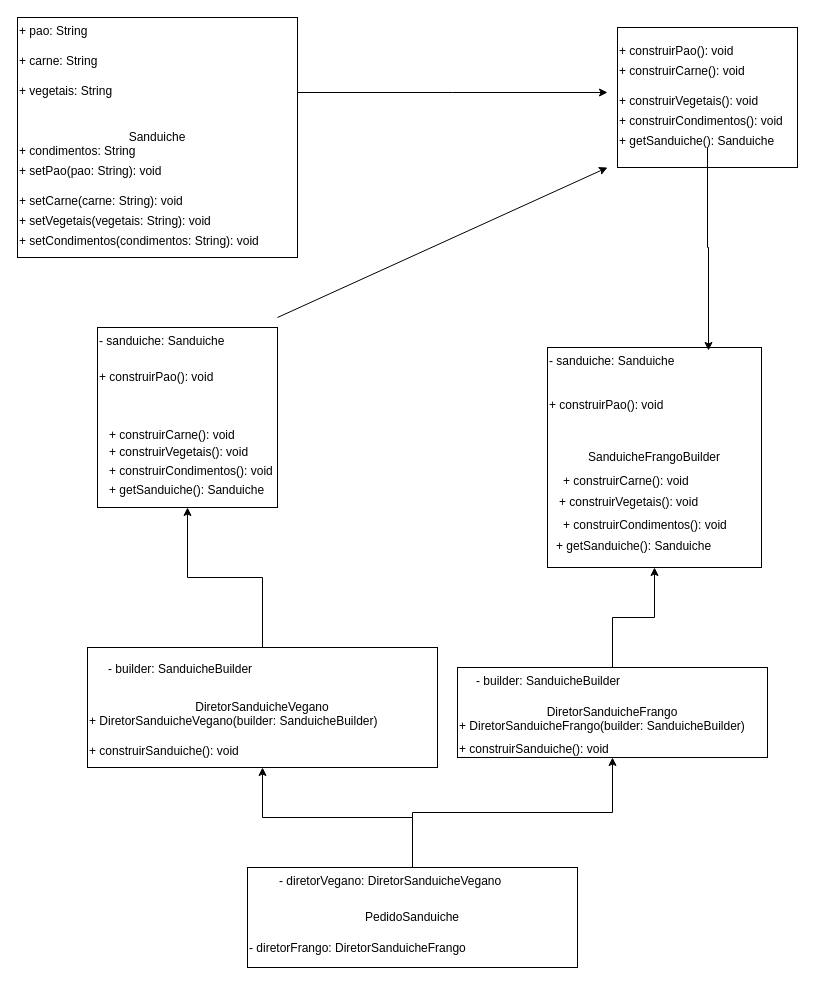
Image size: 815x985. Some labels were removed from this diagram. The box of each missing label's shape, as (x1, y1, x2, y2) in pixels:
SanduicheBuilder: (616, 26, 798, 168)
SanduicheVeganoBuilder: (96, 326, 278, 508)
